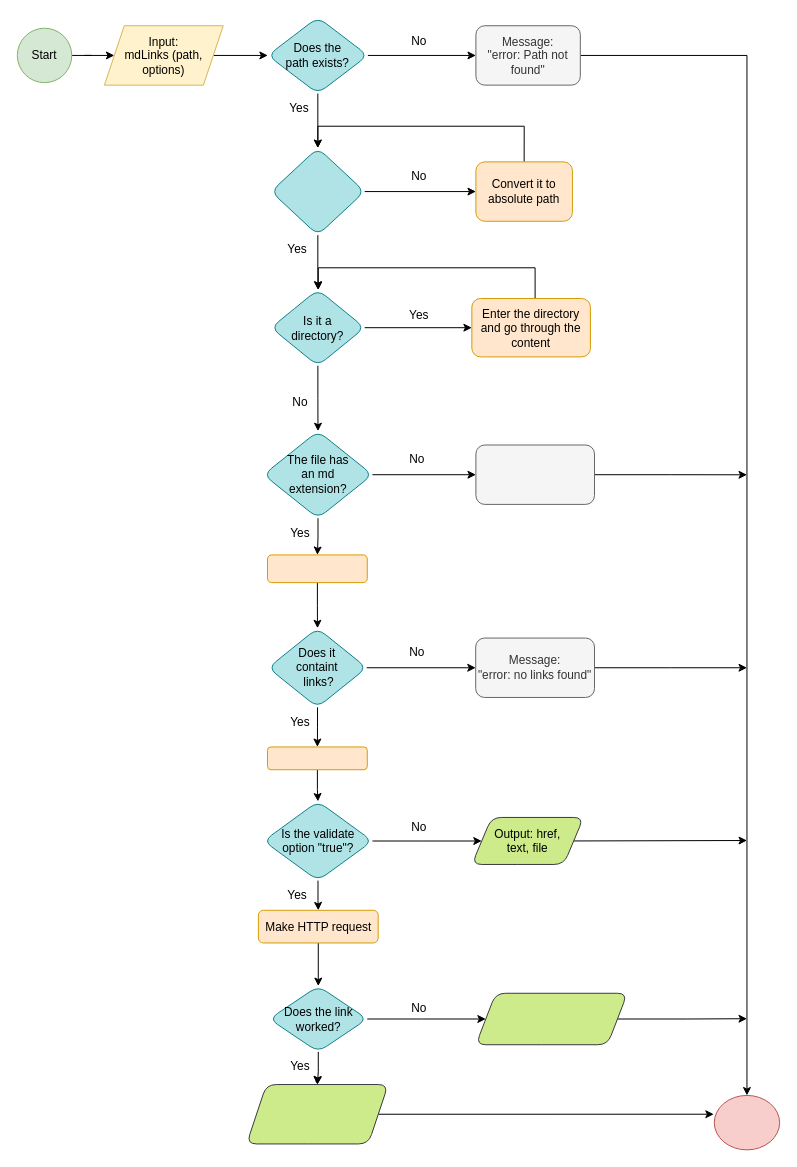
This 797x1167 diagram has some shape labels left out. Each missing label, with the box of its shape:
End: (713, 1094, 780, 1150)
Extract links: (267, 746, 367, 770)
Is the path absolute?: (270, 147, 365, 235)
Message: "error: There´s no md files": (475, 444, 594, 504)
Output: href, text, file, status, message "fail": (475, 992, 627, 1045)
Output: href, text, file, status, message "ok": (246, 1084, 388, 1144)
Read md file: (267, 554, 367, 583)
